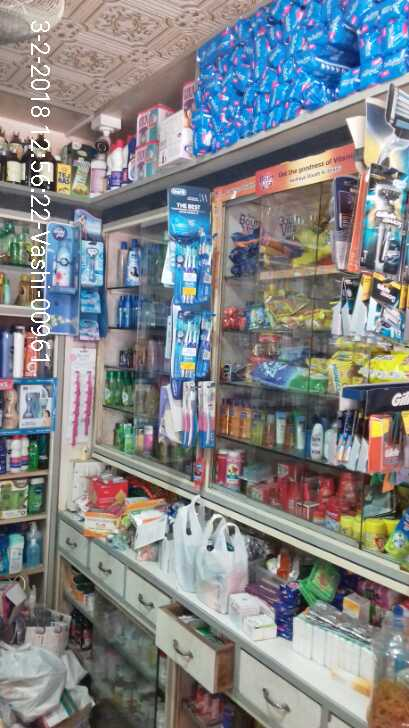beauty: (360, 167, 409, 335)
home: (46, 231, 70, 284)
oralb: (170, 236, 222, 454)
